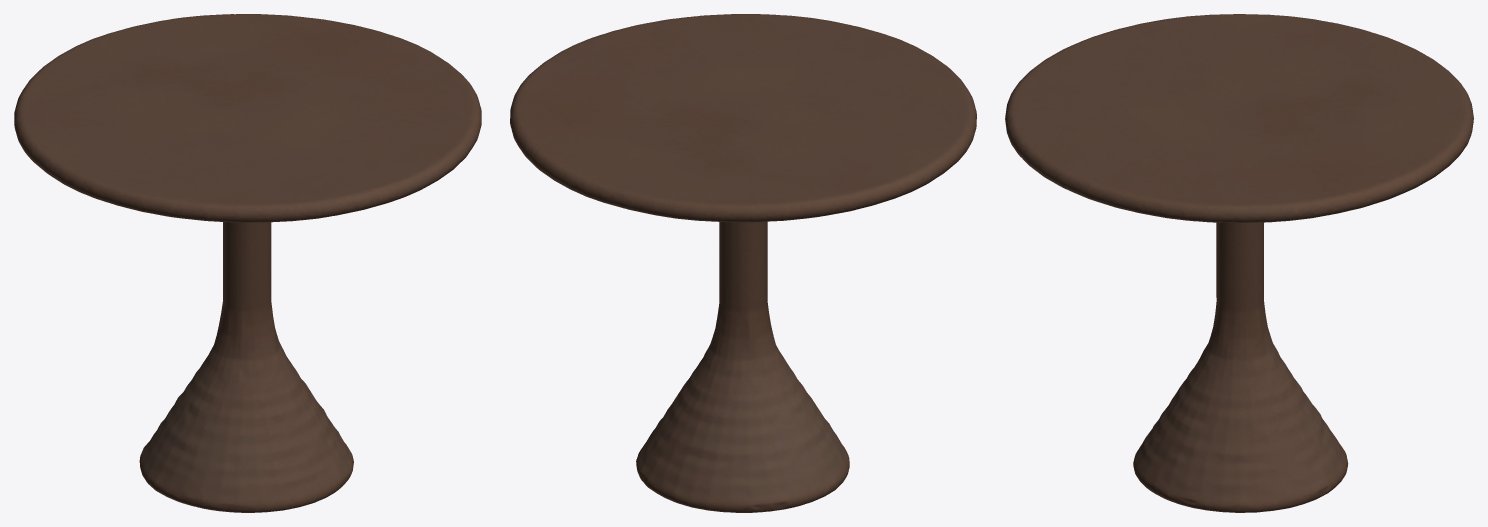
File: round-side-table.glb
3 renders of one model, left to right at view 1: azimuth 30°, elevation 25°; view 2: azimuth 150°, elevation 25°; view 3: azimuth 270°, elevation 25°, orthographic.
Parts seen in each view (by area): view 1: world; view 2: world; view 3: world.
Boxes of the visible parts, box(x1,y1,x2,y2) form: world: box(14, 14, 481, 512); world: box(510, 14, 976, 512); world: box(1005, 14, 1473, 512).
Size of the model in its own units: 1 by 0.8482 by 1.
1 material, 1 textured.
